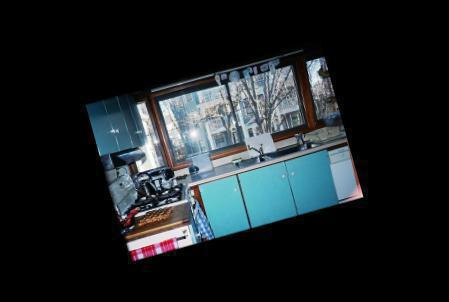Electrodomestico: (108, 158, 196, 221)
Lavaplatos: (234, 126, 324, 170)
